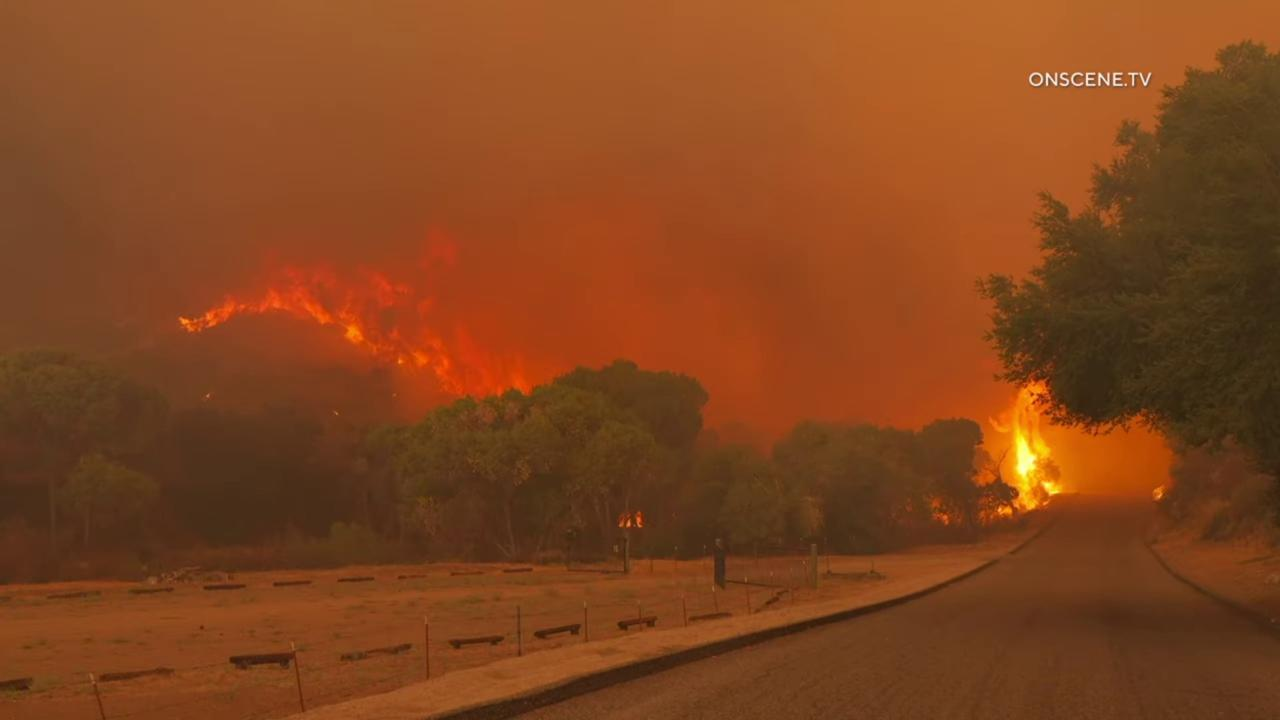fire: (170, 221, 536, 405), (979, 373, 1069, 525), (613, 507, 650, 533), (1145, 479, 1173, 503)
smoke: (0, 0, 1280, 547)
